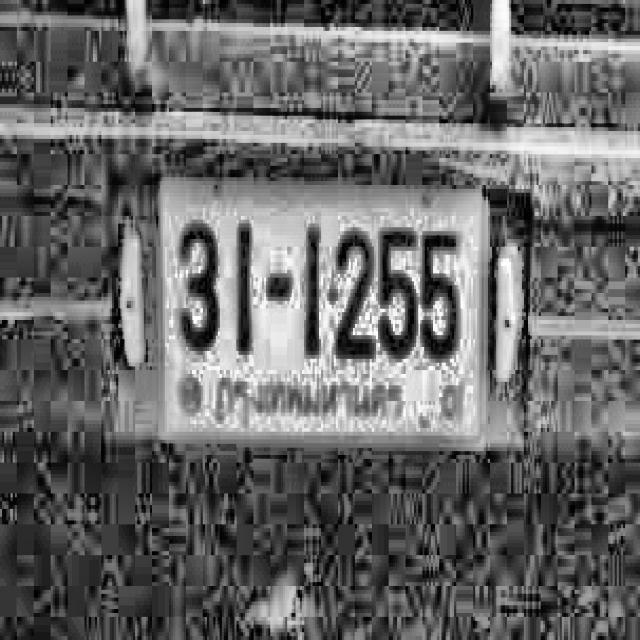license-plate: (158, 176, 488, 442)
